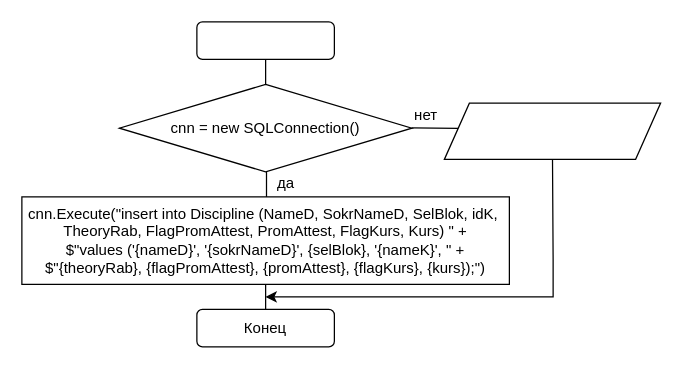
Image size: 683x369. Some labels were removed from this diagram. Each missing label, with the centre of its shape:
"Вывести сообщение об ошибке" belongs at [552,130].
"Начало" belongs at [265,40].
